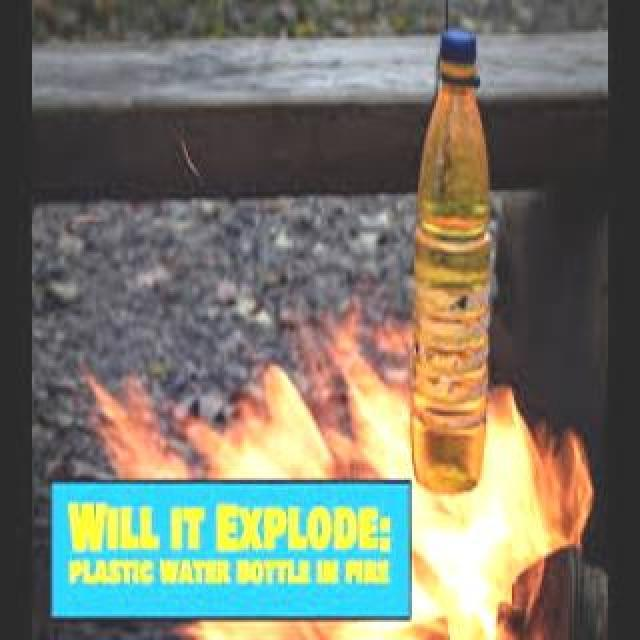Pet_Bottle: (409, 25, 495, 501)
